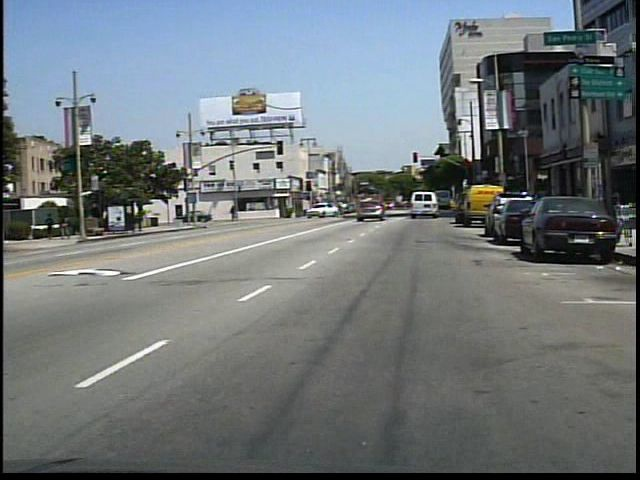person: (62, 213, 78, 244), (48, 212, 61, 242), (234, 205, 241, 223)
